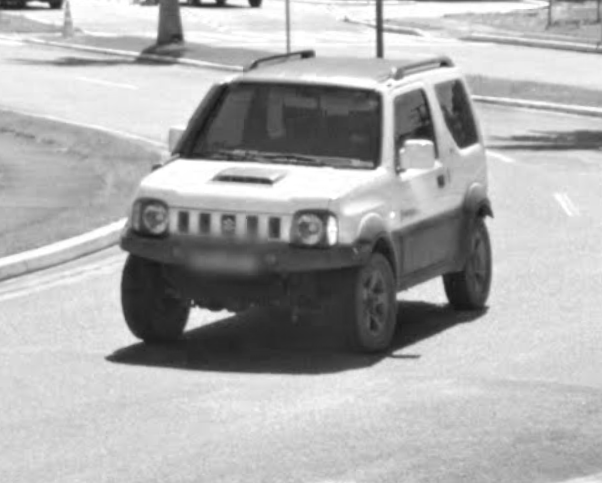car: (113, 45, 499, 359)
